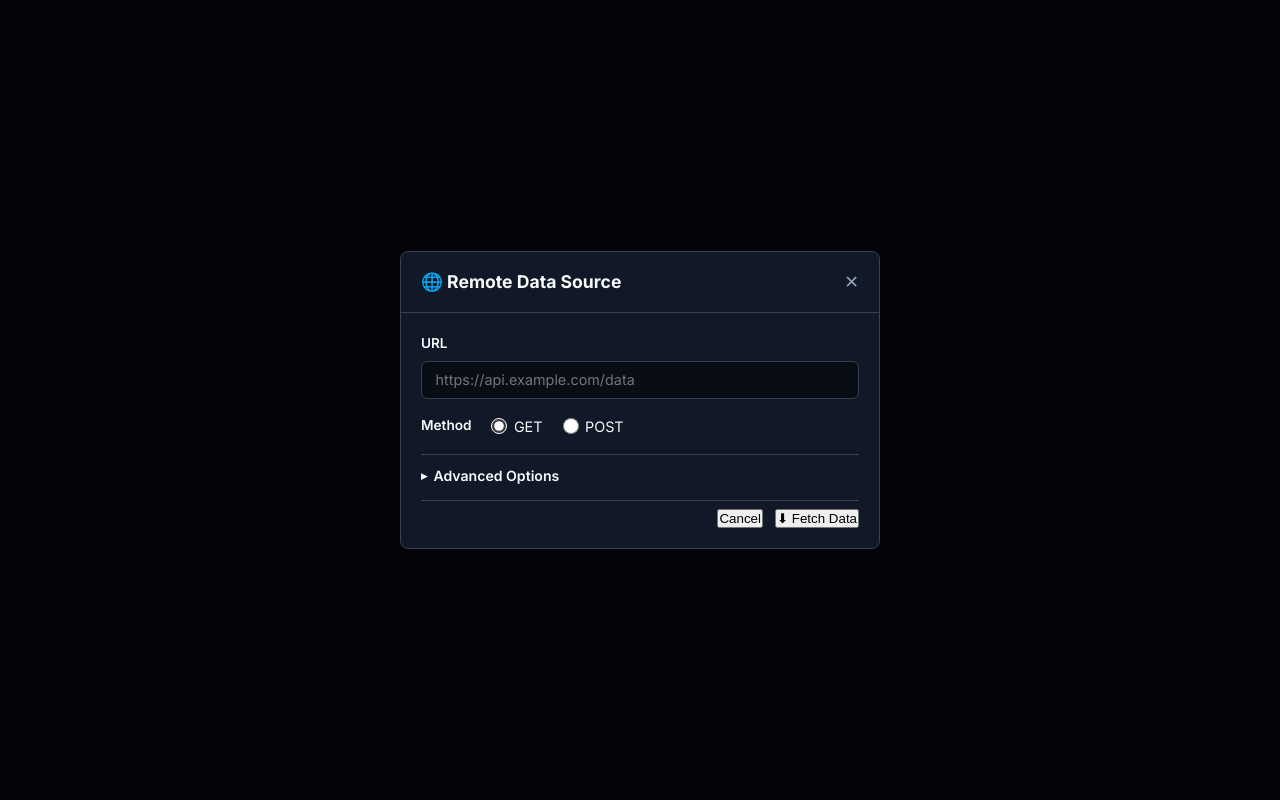
Scenario: RemoteSourceModal › shows inline error when fetchRemote throws
Type "https://api.test/x" into the field with placeholder "https://api.example.com/data" at point(640, 380), box [421, 361, 859, 399]
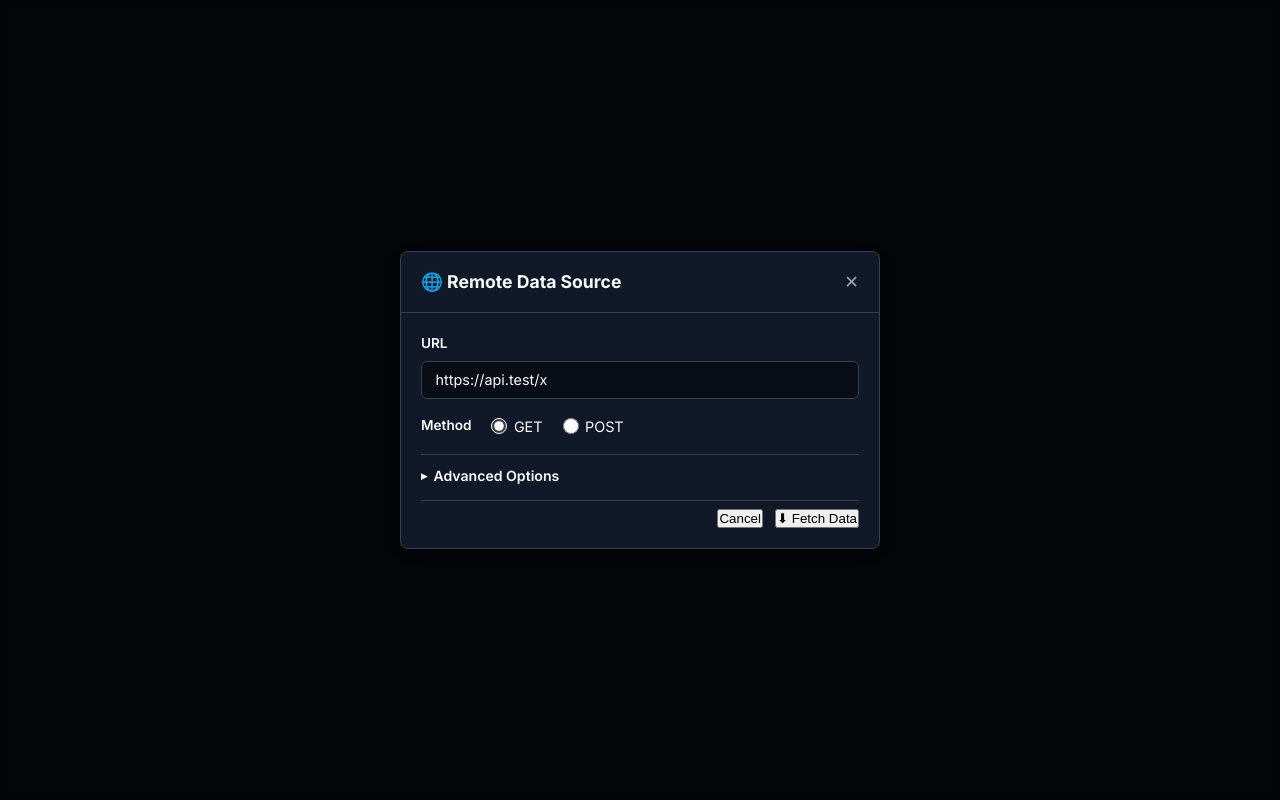
Click the button "⬇ Fetch Data" at point(817, 518), box [775, 509, 859, 528]
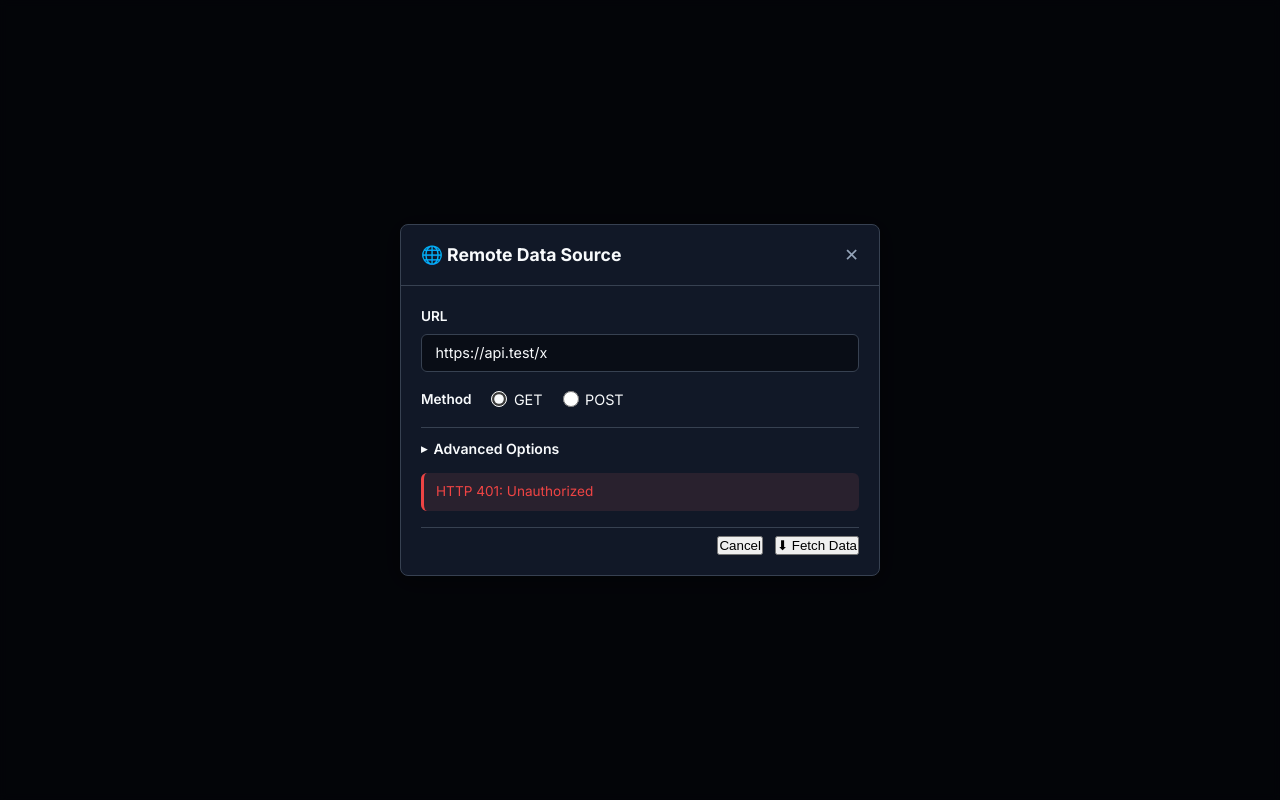
Expected: the message reads "HTTP 401: Unauthorized", [436, 483, 593, 499]
